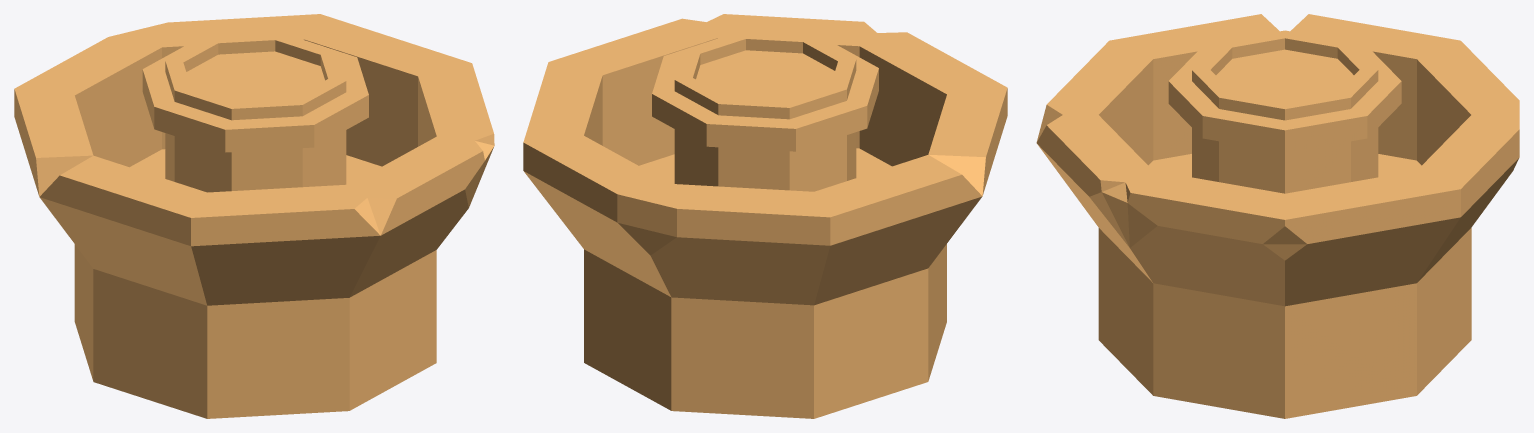
The model's file is 2x2 Fountain.fbx.
3 views of the same model, side by side, from view 1: azimuth 30°, elevation 25°; view 2: azimuth 150°, elevation 25°; view 3: azimuth 270°, elevation 25° (orthographic).
Visible parts, largest first — view 1: 2x2 Fountain; view 2: 2x2 Fountain; view 3: 2x2 Fountain.
Boxes of the visible parts, x1,y1,x2,y2 form: 2x2 Fountain: [14, 14, 494, 418]; 2x2 Fountain: [523, 14, 1007, 418]; 2x2 Fountain: [1036, 14, 1519, 418].
Bounding box in the file's own units: 200 × 120 × 194.
